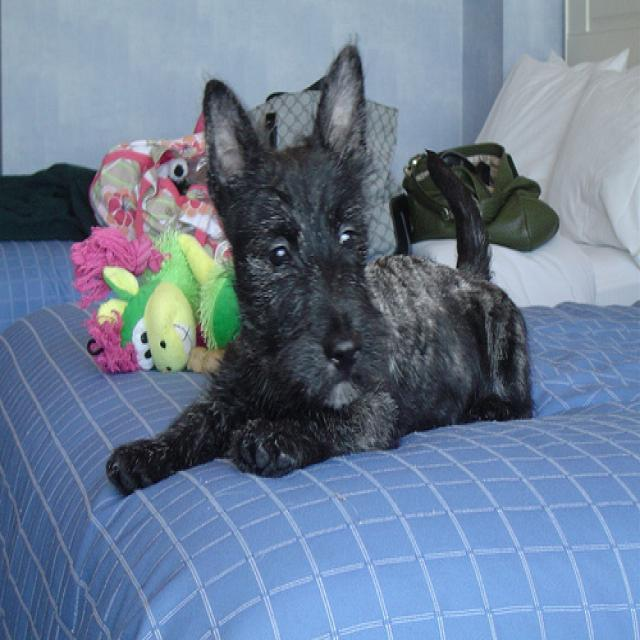dog-scottish_terrier: (93, 26, 536, 505)
